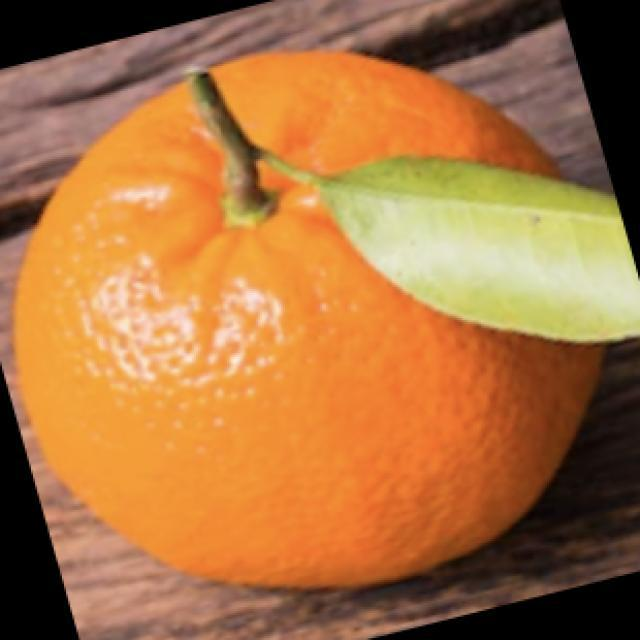matang: (14, 84, 602, 586), (213, 51, 558, 176)
